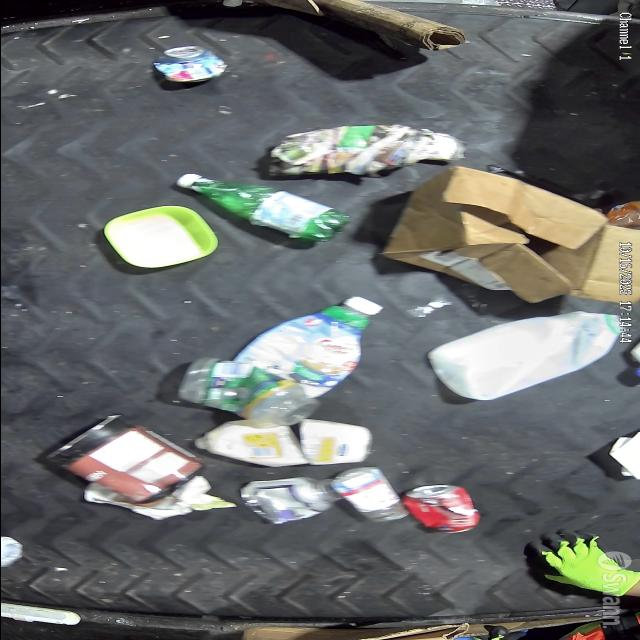can: (45, 412, 203, 499), (404, 484, 479, 528), (150, 41, 220, 87)
milk_jug: (423, 314, 618, 399)
plastic_bottle: (178, 159, 350, 251)
